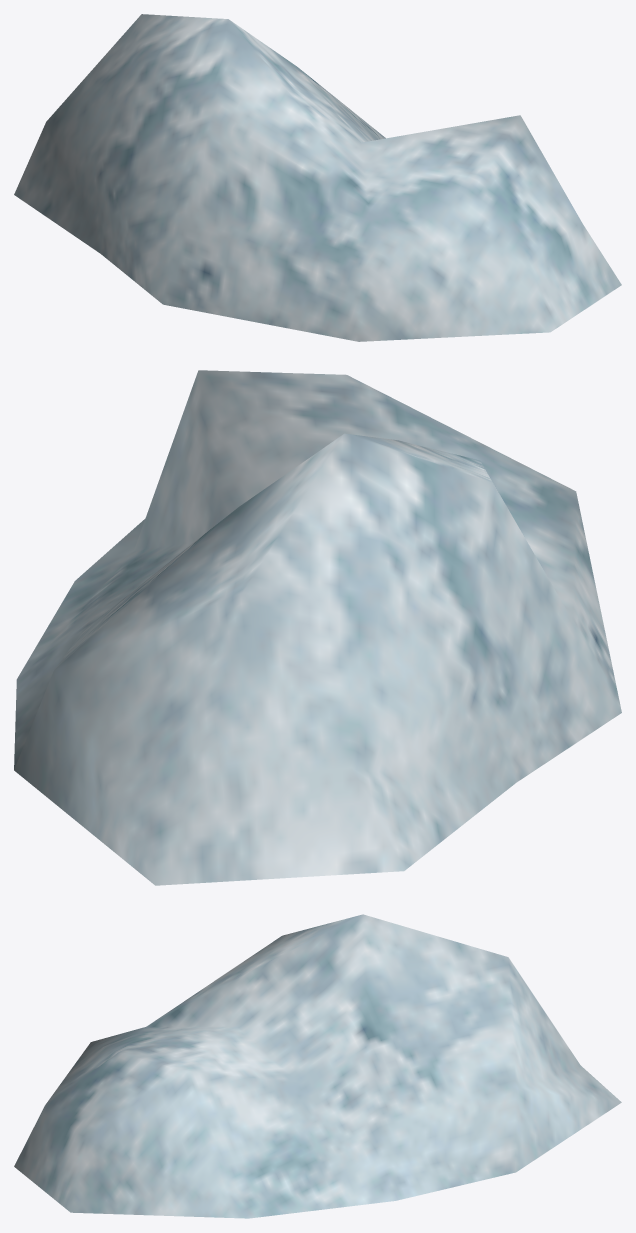
3 renders of one model, top to bottom at view 1: azimuth 30°, elevation 25°; view 2: azimuth 150°, elevation 25°; view 3: azimuth 270°, elevation 25°, orthographic. The views are drawn at different scales.
Visible parts, largest first — view 1: wj06; view 2: wj06; view 3: wj06.
Part boxes in pixels (bbox=[...]): wj06: bbox=[14, 14, 621, 341]; wj06: bbox=[14, 370, 621, 885]; wj06: bbox=[14, 914, 621, 1218].
Bounding box in the file's own units: 700 × 369 × 1057.
Materials: 1 (1 with a texture image).
